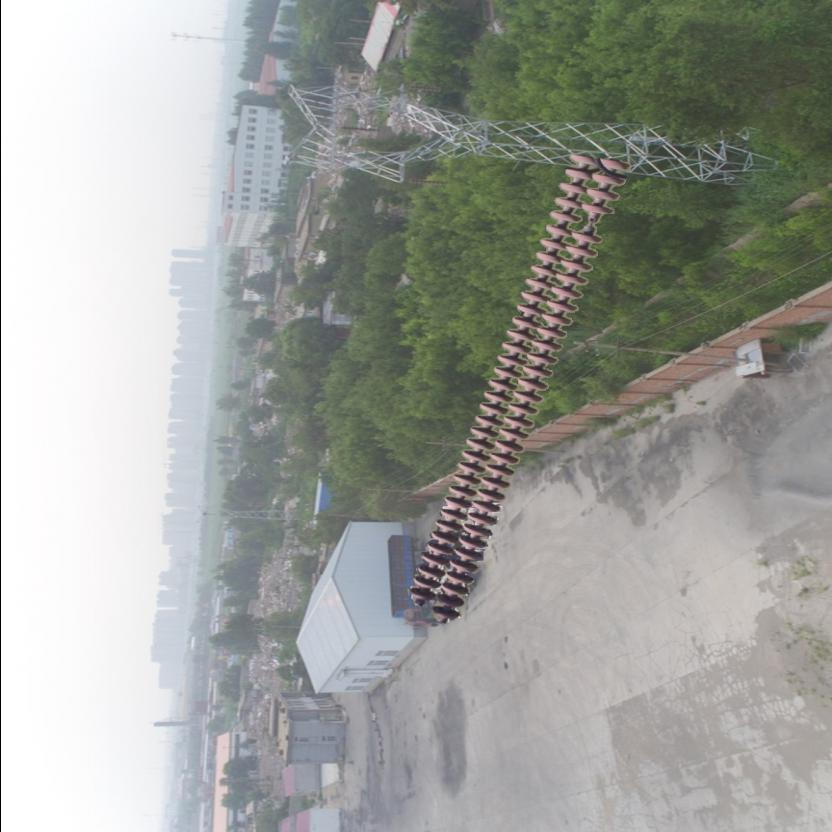defect: (567, 198, 611, 247)
